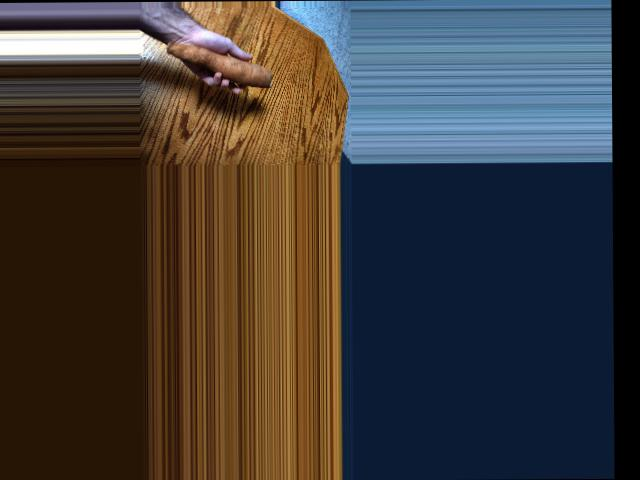sweet_potato: (168, 38, 272, 91)
